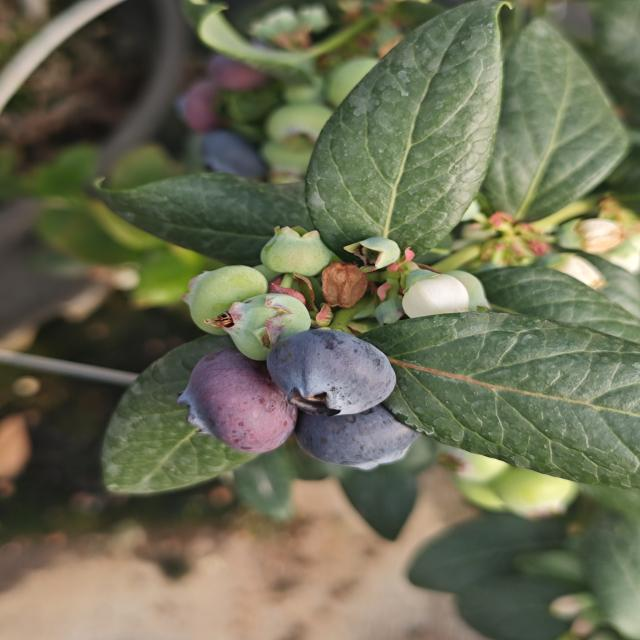ripe: (170, 348, 306, 457), (264, 327, 397, 416), (293, 414, 416, 474), (192, 128, 273, 183)
